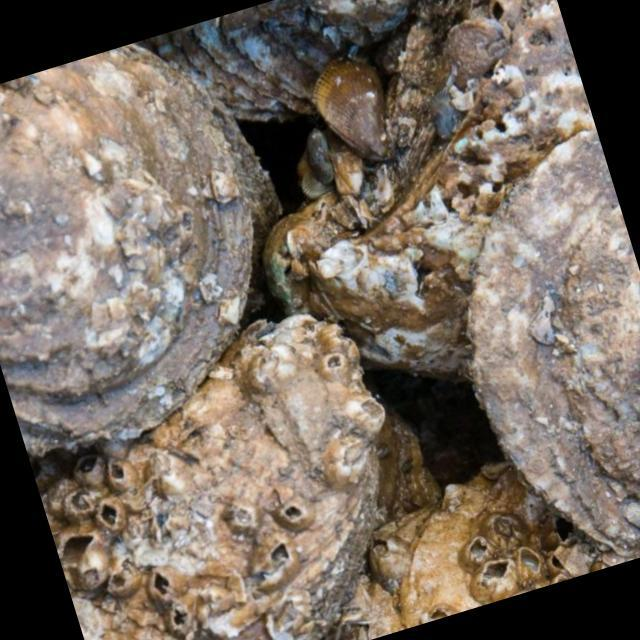Oyster- Indeterminate: (33, 314, 386, 640), (0, 47, 268, 451), (315, 0, 594, 370), (469, 133, 640, 546), (358, 464, 624, 640), (141, 0, 420, 116), (341, 409, 459, 527)
